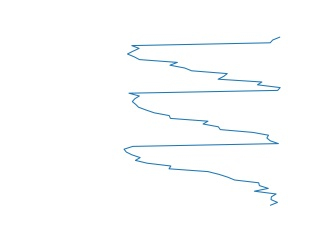distributaryMouthBar: (122, 37, 285, 207)
